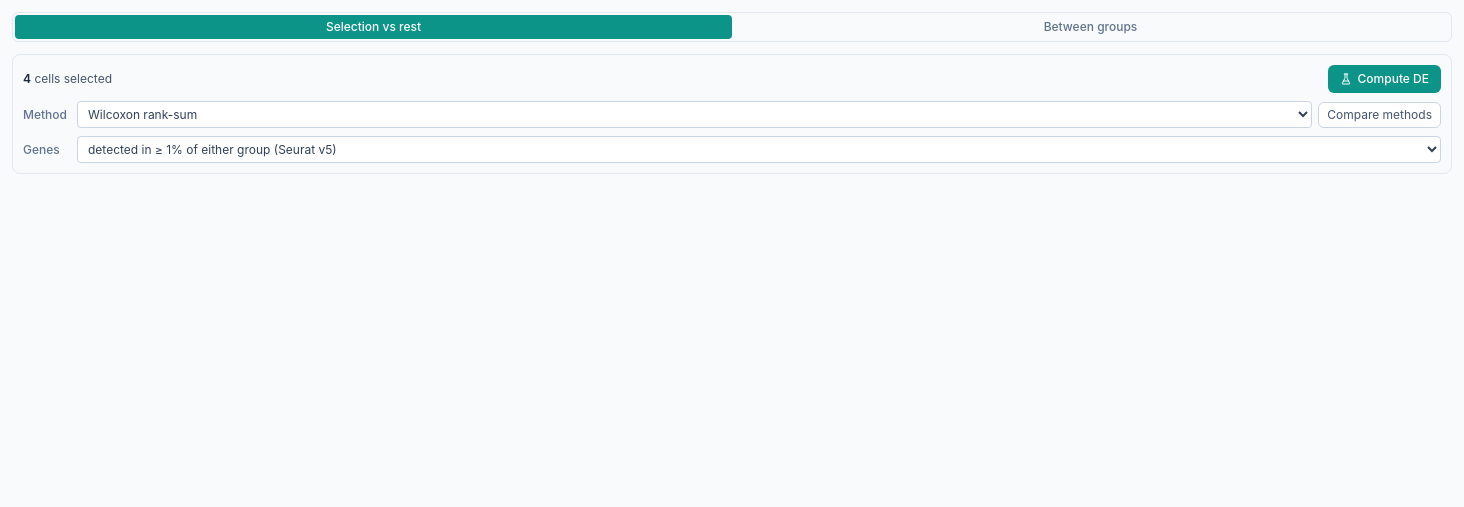
Test: UnifiedDESubtab cell-level method › compares every test on the selection and shows the agreement
The image size is (1464, 507).
Click the button "Compare methods" at (1380, 114), box [1318,102,1441,128]
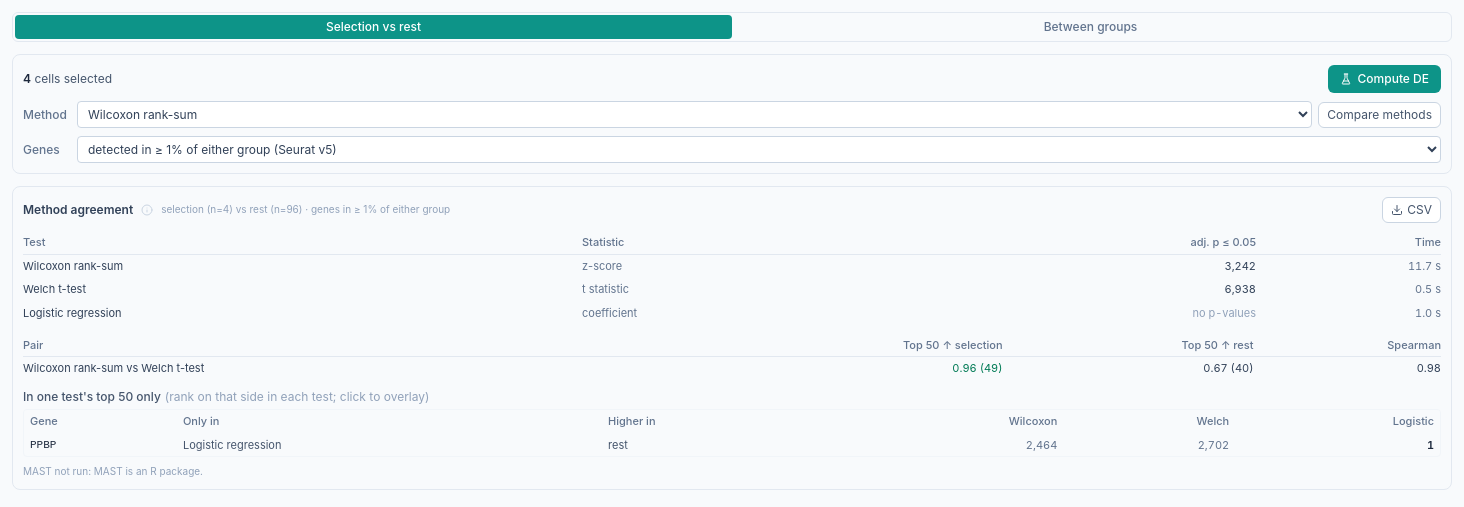
Check: the text "Method agreement" is shown, box [23,202,133,218]
Check: the table named "Agreement between tests" shows "Wilcoxon rank-sum vs Welch t-test", box [23,361,204,375]
Check: the table named "Agreement between tests" shows "0.96 (49)", box [952,361,1002,375]
